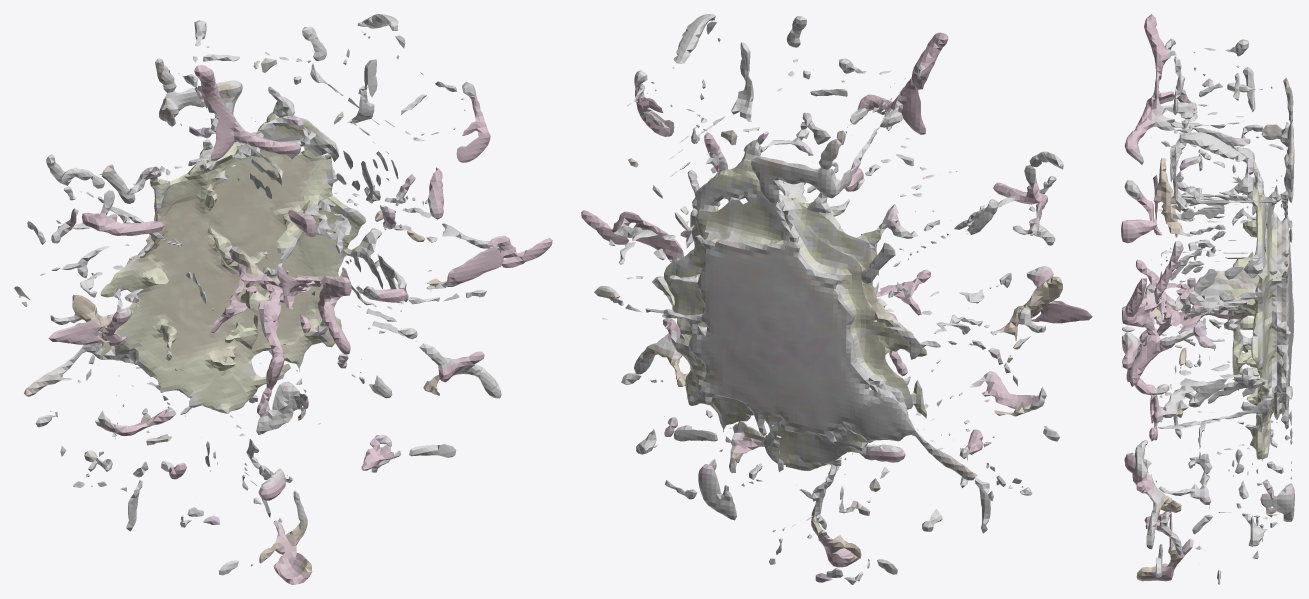
The model's file is fungi.glb.
3 views of the same model, side by side, from view 1: azimuth 30°, elevation 25°; view 2: azimuth 150°, elevation 25°; view 3: azimuth 270°, elevation 25° (orthographic). The views are drawn at different scales.
Visible parts, largest first — view 1: mesh.ply; view 2: mesh.ply; view 3: mesh.ply.
Part boxes in pixels (left/top/right/bottom): mesh.ply: left=14, top=14, right=552, bottom=584; mesh.ply: left=581, top=14, right=1092, bottom=584; mesh.ply: left=1121, top=14, right=1294, bottom=584.
Size of the model in its own units: 0.9369 by 0.9598 by 0.2903.
